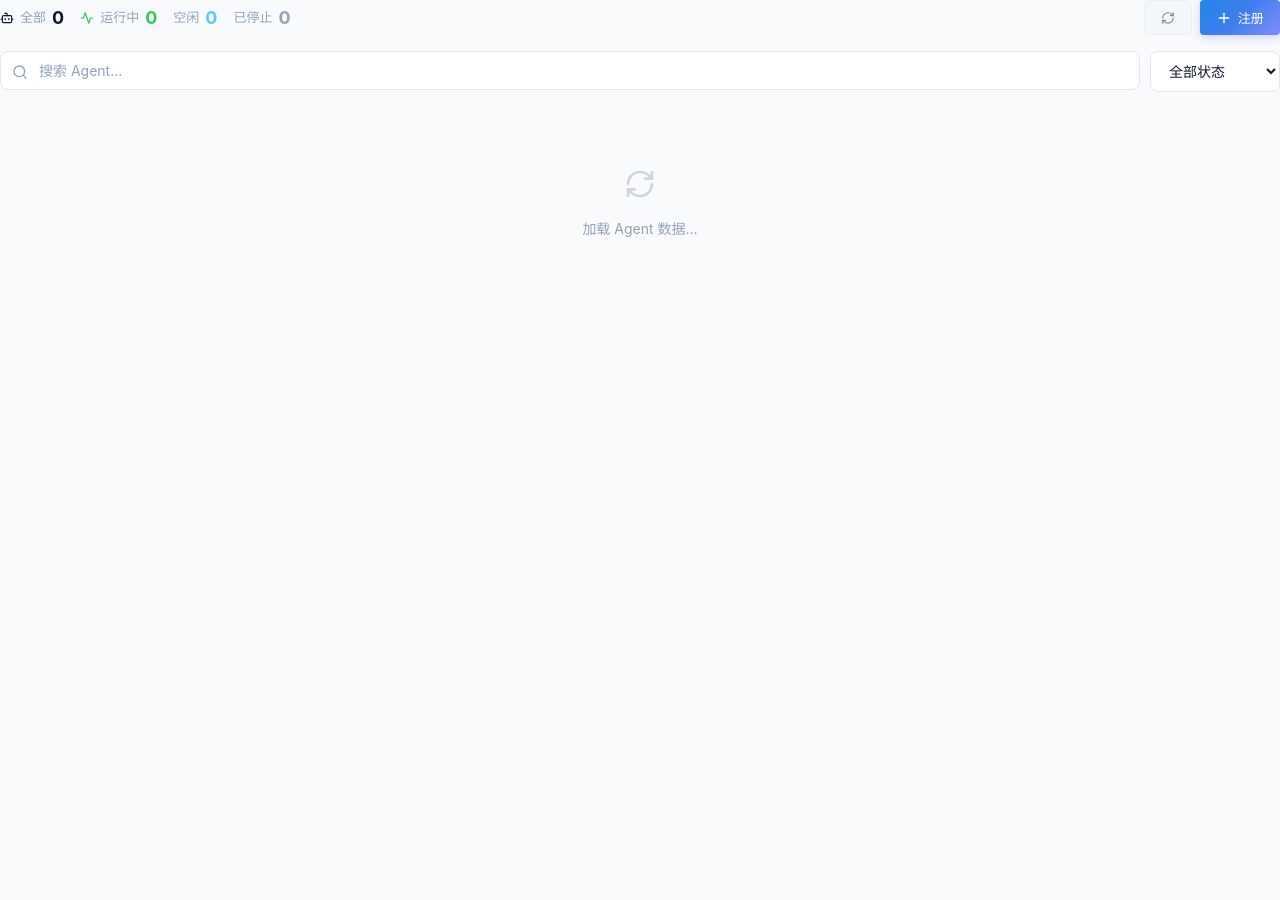
Scenario: AgentPanel Component › opens spawn modal when register button is clicked
This screenshot has width=1280, height=900.
Click the button with aria-label "注册新 Agent".
click(1240, 18)  # box [1200, 0, 1279, 35]
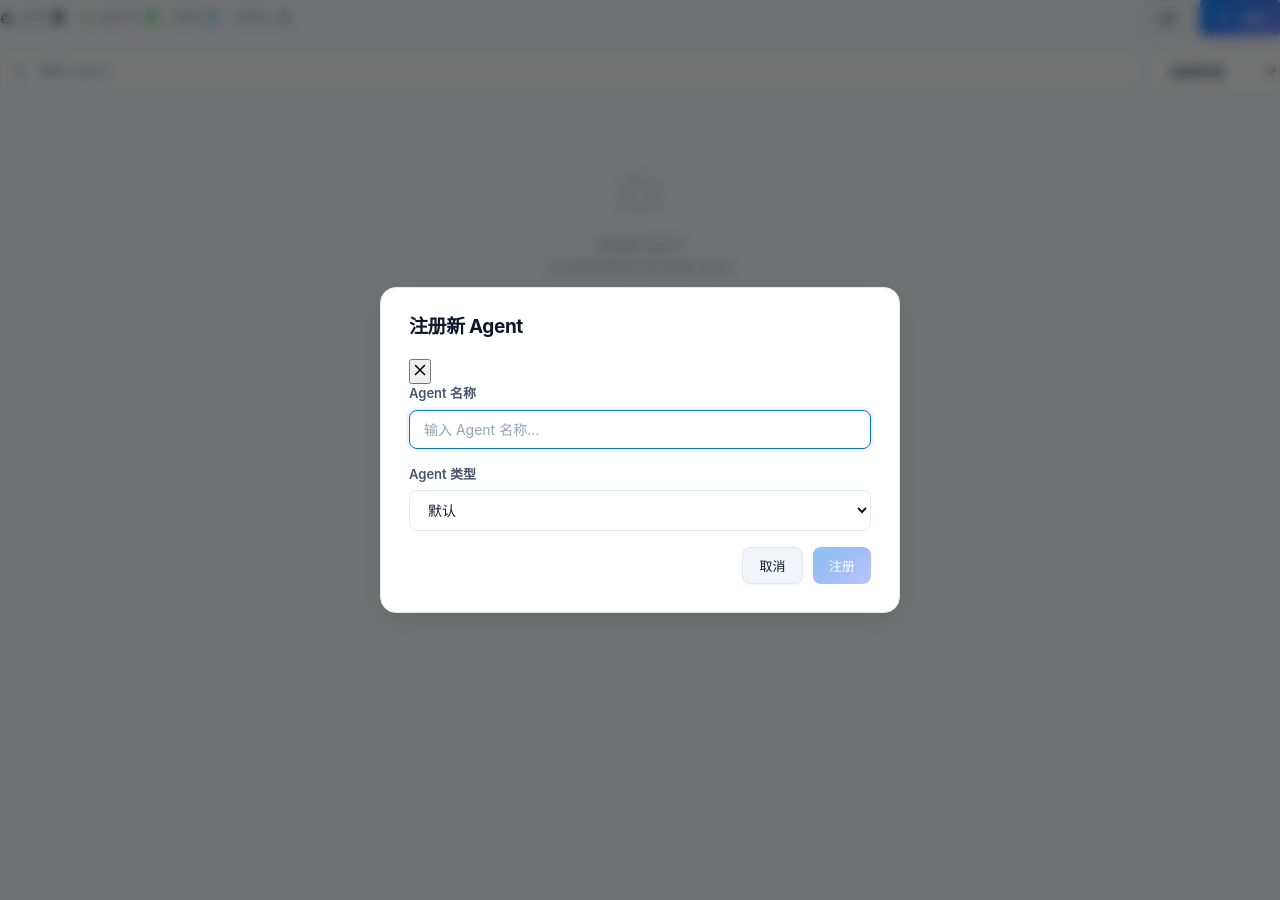
Expected: the dialog "注册新 Agent" is shown, [380, 287, 900, 613]
Expected: the field labelled "Agent 名称" is shown, [409, 410, 871, 449]
